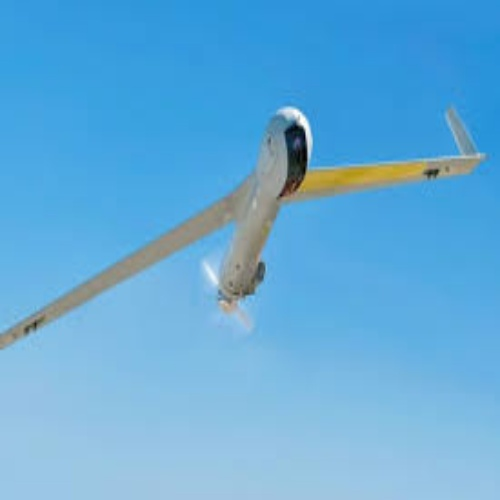uav: (1, 105, 485, 345)
